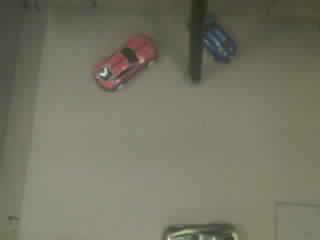Car: (94, 36, 156, 89), (202, 18, 235, 61), (168, 224, 238, 239)
